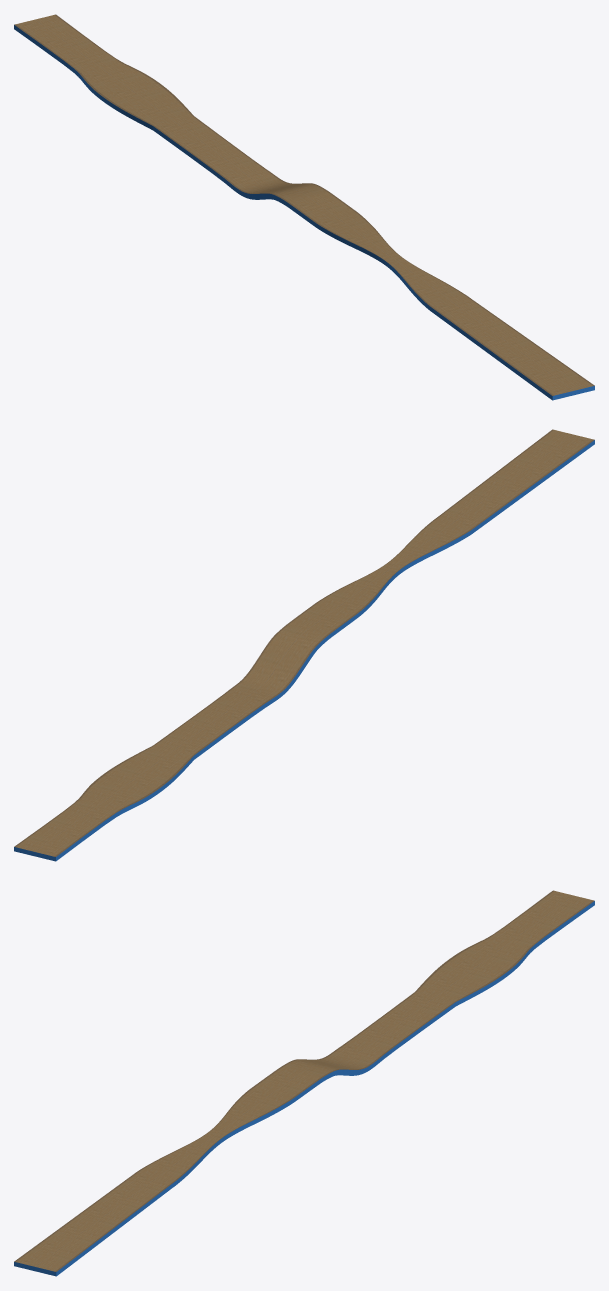
File: ramps_new.FBX
3 views of the same model, one above another, from view 1: azimuth 30°, elevation 25°; view 2: azimuth 150°, elevation 25°; view 3: azimuth 330°, elevation 25° (orthographic).
Parts seen in each view (by area): view 1: Line003; view 2: Line003; view 3: Line003.
Boxes of the visible parts, x1,y1,x2,y2 form: Line003: [14, 14, 594, 400]; Line003: [14, 429, 594, 861]; Line003: [14, 890, 594, 1276].
Bounding box in the file's own units: 748 × 353 × 12312.
